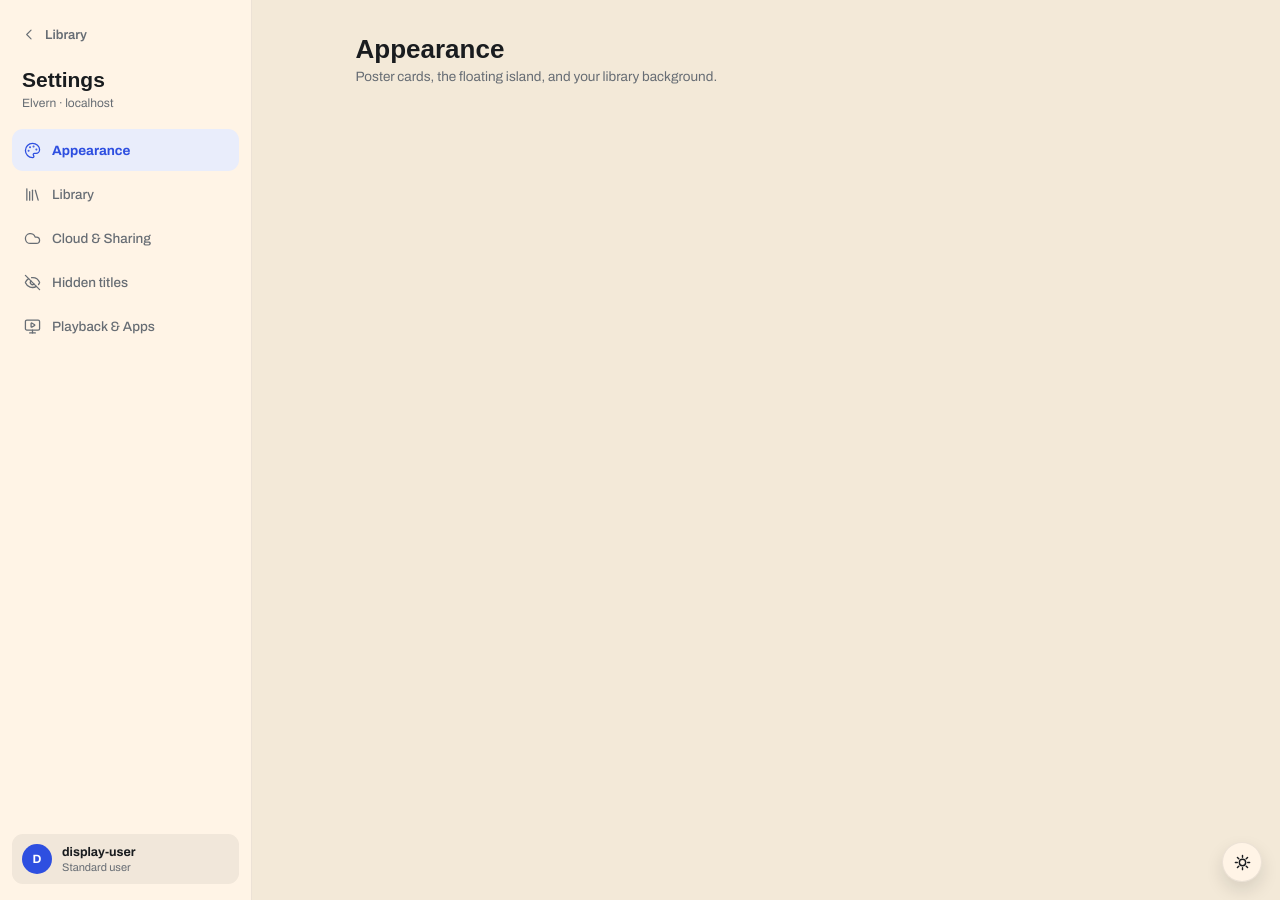
Test: DesktopControlCenterLayout privilege boundaries › standard user without Assistant permission sees only Sign out
Click the button "D display-user Standard user": (126, 859) [12,834,239,884]
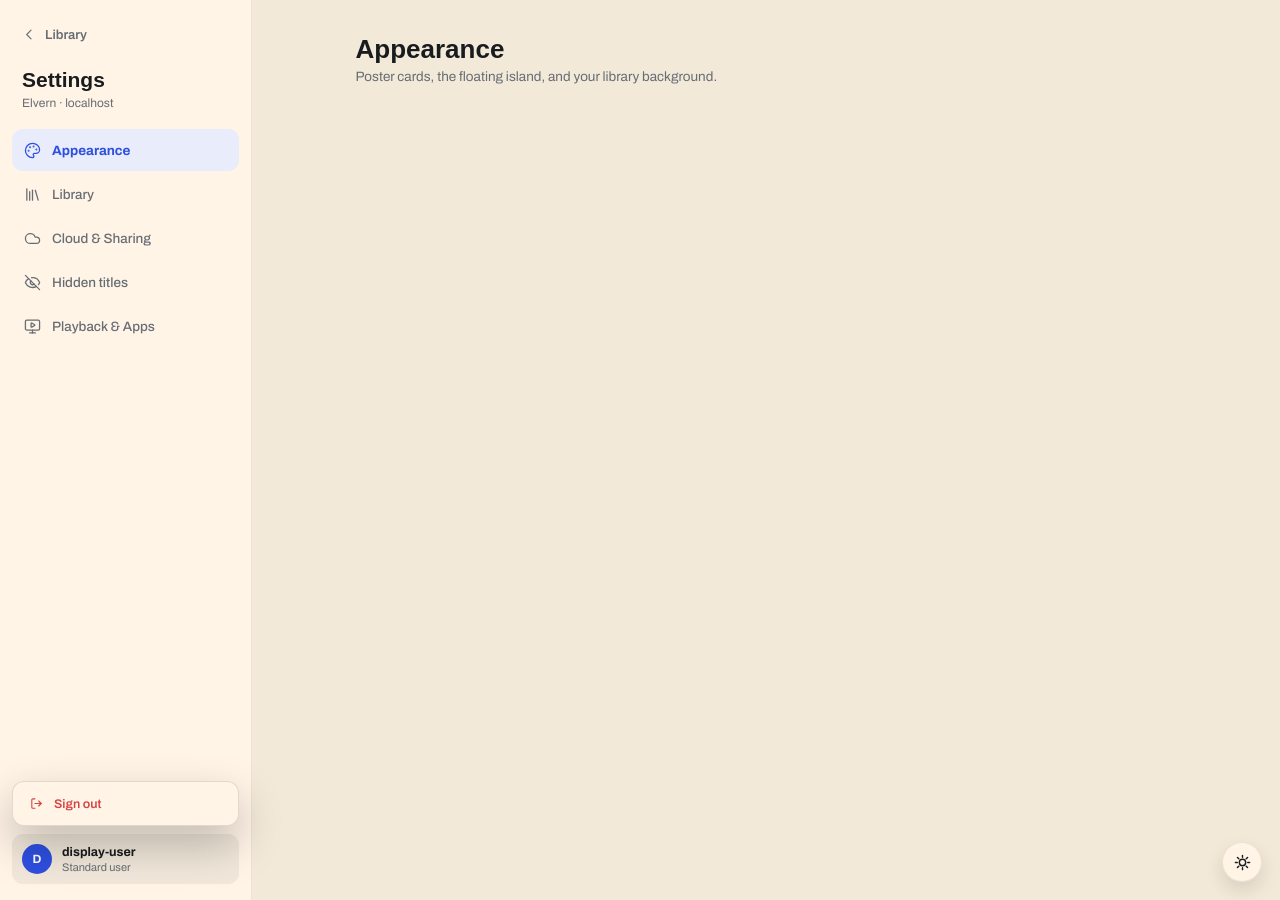
Now the number of menu items is 1, box [18,787,233,820]
Now the text "Sign out" is shown, box [54,796,101,810]
